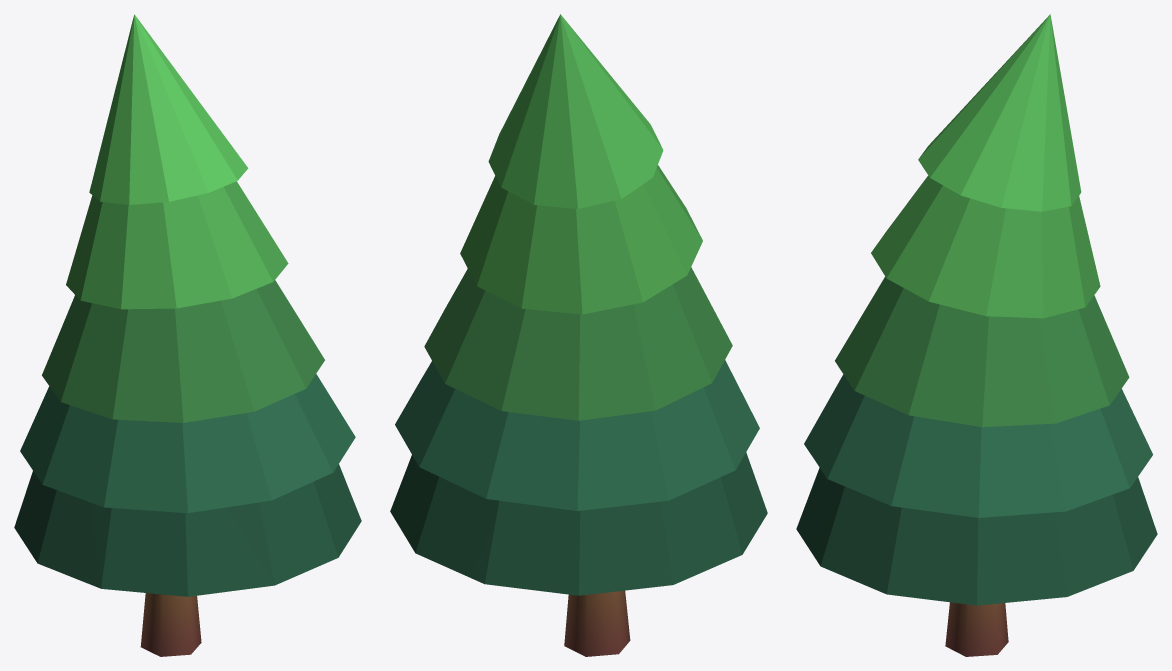
File: Low_Poly_Forest_treeTall03.glb
The picture shows the model from 3 angles, left to right: view 1: azimuth 30°, elevation 25°; view 2: azimuth 150°, elevation 25°; view 3: azimuth 270°, elevation 25°; orthographic projection. The views are drawn at different scales.
Visible parts, largest first — view 1: leaf_4.001, leaf_3.001, leaf_5.001, leaf_2.001, leaf.001, bark.001; view 2: leaf_4.001, leaf_5.001, leaf_3.001, leaf_2.001, leaf.001, bark.001; view 3: leaf_4.001, leaf_5.001, leaf_3.001, leaf_2.001, leaf.001, bark.001.
Part boxes in pixels (x1,y1,x2,y2): leaf_4.001: (20,374,355,513); leaf_3.001: (42,280,324,422); leaf_5.001: (14,464,361,596); leaf_2.001: (66,181,288,309); leaf.001: (89,14,248,204); bark.001: (140,593,201,656); leaf_4.001: (395,360,759,510); leaf_5.001: (390,452,767,595); leaf_3.001: (424,267,732,420); leaf_2.001: (460,165,702,314); leaf.001: (488,14,663,208); bark.001: (564,590,630,656); leaf_4.001: (804,374,1152,517); leaf_5.001: (796,467,1157,605); leaf_3.001: (835,276,1129,427); leaf_2.001: (871,175,1100,318); leaf.001: (918,14,1081,211); bark.001: (945,602,1008,656).
Bounding box in the file's own units: 4.33 × 8.32 × 4.33.
2 materials, 2 textured.
